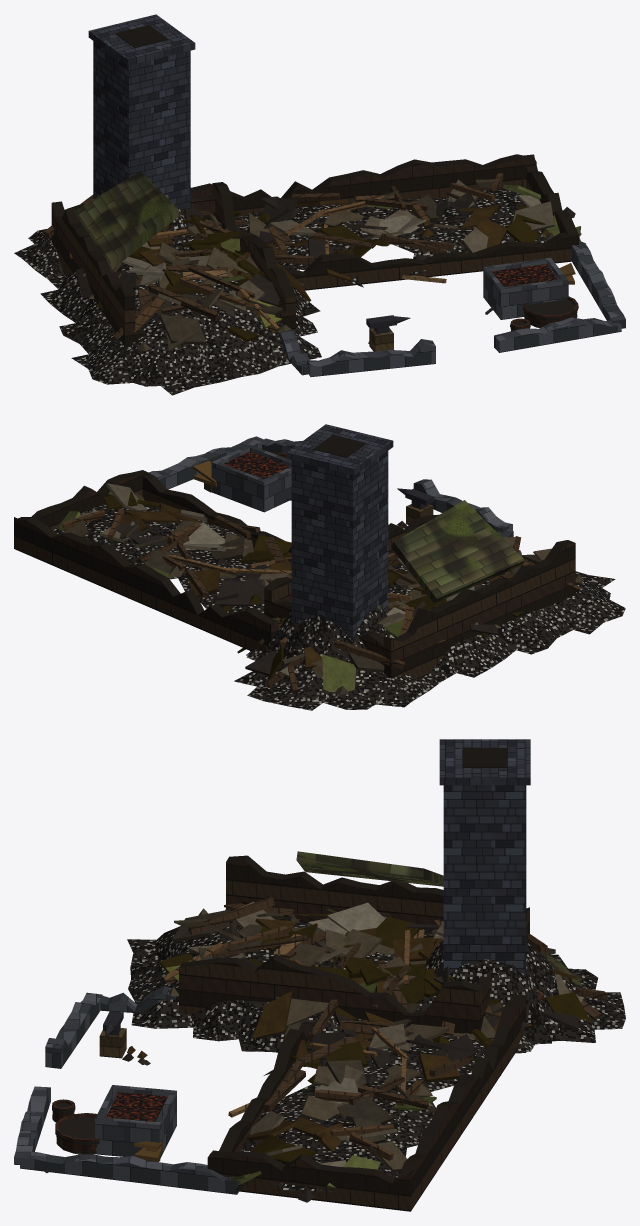
The model's file is Arabuild04b.glb.
The picture shows the model from 3 angles, top to bottom: view 1: azimuth 30°, elevation 25°; view 2: azimuth 150°, elevation 25°; view 3: azimuth 270°, elevation 25°; orthographic projection. The views are drawn at different scales.
Parts seen in each view (by area): view 1: Arabuild04b_stub; view 2: Arabuild04b_stub; view 3: Arabuild04b_stub.
Part boxes in pixels (x1,y1,x2,y2): Arabuild04b_stub: (14, 14, 625, 395); Arabuild04b_stub: (14, 424, 625, 710); Arabuild04b_stub: (14, 739, 625, 1211).
Bounding box in the file's own units: 17.1 × 7.05 × 14.8.
Materials: 29 (23 with a texture image).
